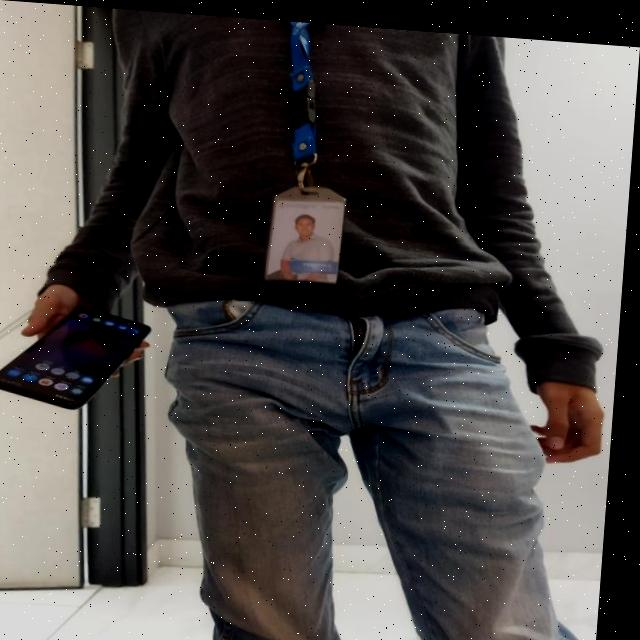id_card: (247, 15, 368, 281)
